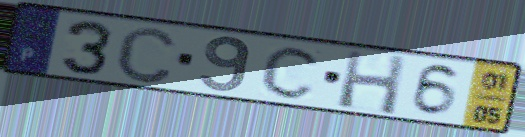3: (59, 18, 115, 77)
6: (408, 63, 462, 119)
9: (197, 34, 252, 94)
C: (112, 24, 180, 86), (258, 44, 325, 101)
H: (336, 48, 410, 118)
